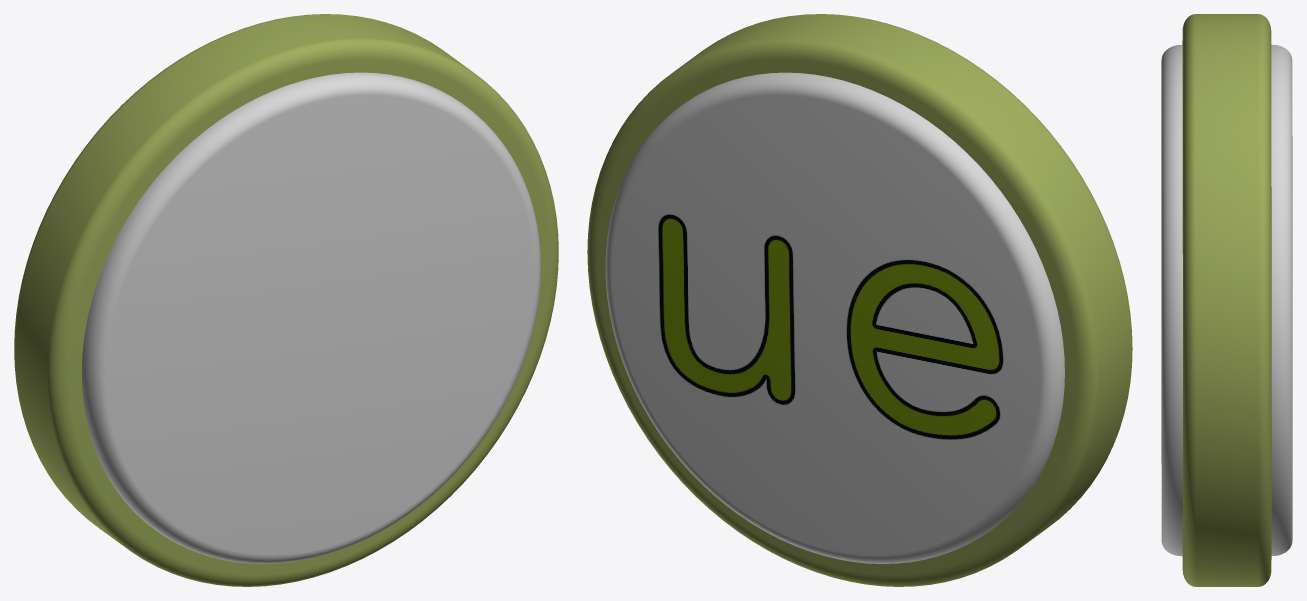
Rendered from statue.gltf.
3 views of the same model, side by side, from view 1: azimuth 30°, elevation 25°; view 2: azimuth 150°, elevation 25°; view 3: azimuth 270°, elevation 25° (orthographic). The views are drawn at different scales.
Parts seen in each view (by area): view 1: Cylinder_2, Cylinder.001; view 2: Cylinder_2, Cylinder.001; view 3: Cylinder.001, Cylinder_2.
Part boxes in pixels (x1,y1,x2,y2): Cylinder_2: (81, 72, 540, 563); Cylinder.001: (14, 14, 558, 586); Cylinder_2: (605, 72, 1064, 563); Cylinder.001: (587, 14, 1132, 586); Cylinder.001: (1182, 14, 1271, 586); Cylinder_2: (1161, 44, 1292, 556).
Size of what is drawn, in the model's own units: 2.56 by 2.56 by 0.5856.
2 materials, 1 textured.
